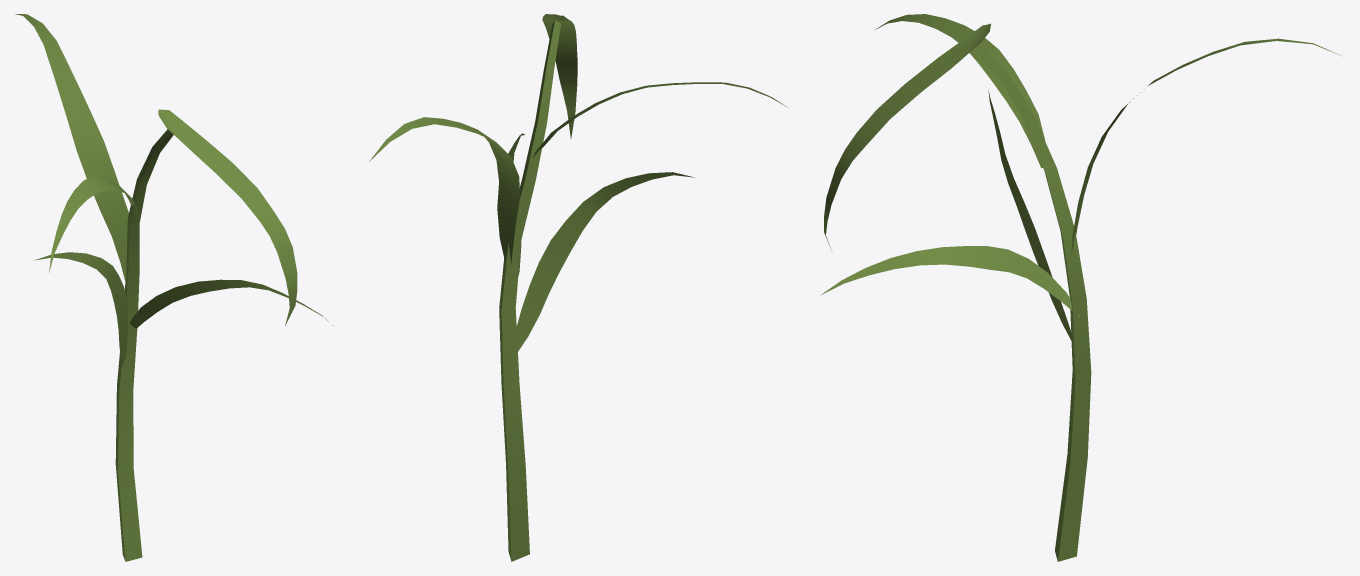
File: plant_water_twig_A.fbx
The picture shows the model from 3 angles, left to right: view 1: azimuth 30°, elevation 25°; view 2: azimuth 150°, elevation 25°; view 3: azimuth 270°, elevation 25°; orthographic projection. The views are drawn at different scales.
Parts seen in each view (by area): view 1: plant_water_twig_A_twig, plant_water_twig_A_leaf_C, plant_water_twig_A_leaf_A, plant_water_twig_A_leaf_E, plant_water_twig_A_leaf_D, plant_water_twig_A_leaf_B; view 2: plant_water_twig_A_twig, plant_water_twig_A_leaf_D, plant_water_twig_A_leaf_C, plant_water_twig_A_leaf_A, plant_water_twig_A_leaf_B; view 3: plant_water_twig_A_twig, plant_water_twig_A_leaf_E, plant_water_twig_A_leaf_A, plant_water_twig_A_leaf_B, plant_water_twig_A_leaf_D, plant_water_twig_A_leaf_C.
Boxes of the visible parts, x1,y1,x2,y2 form: plant_water_twig_A_twig: [115, 129, 173, 561]; plant_water_twig_A_leaf_C: [15, 14, 128, 283]; plant_water_twig_A_leaf_A: [158, 109, 297, 325]; plant_water_twig_A_leaf_E: [130, 279, 333, 328]; plant_water_twig_A_leaf_D: [34, 252, 127, 366]; plant_water_twig_A_leaf_B: [49, 175, 138, 272]; plant_water_twig_A_twig: [499, 20, 560, 561]; plant_water_twig_A_leaf_D: [516, 172, 694, 351]; plant_water_twig_A_leaf_C: [369, 117, 519, 264]; plant_water_twig_A_leaf_A: [542, 14, 577, 138]; plant_water_twig_A_leaf_B: [533, 82, 787, 157]; plant_water_twig_A_twig: [973, 44, 1091, 561]; plant_water_twig_A_leaf_E: [820, 246, 1080, 316]; plant_water_twig_A_leaf_A: [824, 23, 990, 249]; plant_water_twig_A_leaf_B: [875, 14, 1045, 167]; plant_water_twig_A_leaf_D: [988, 89, 1071, 340]; plant_water_twig_A_leaf_C: [1071, 38, 1341, 255].
Bounding box in the file's own units: 28.87 × 48.97 × 43.99.
